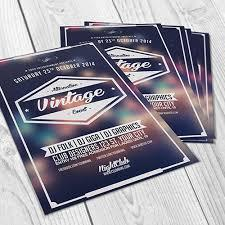Printing industry: (3, 3, 225, 225)
